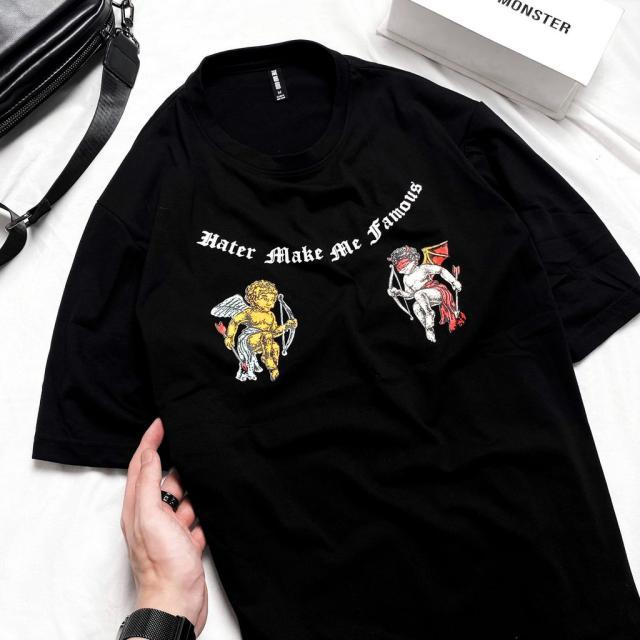Shirt: (26, 30, 640, 640)
